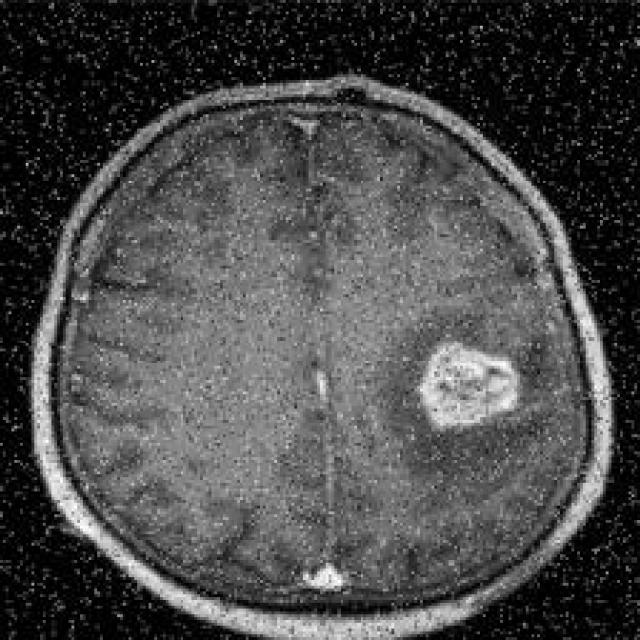glioma_tumor: (370, 302, 571, 500)
